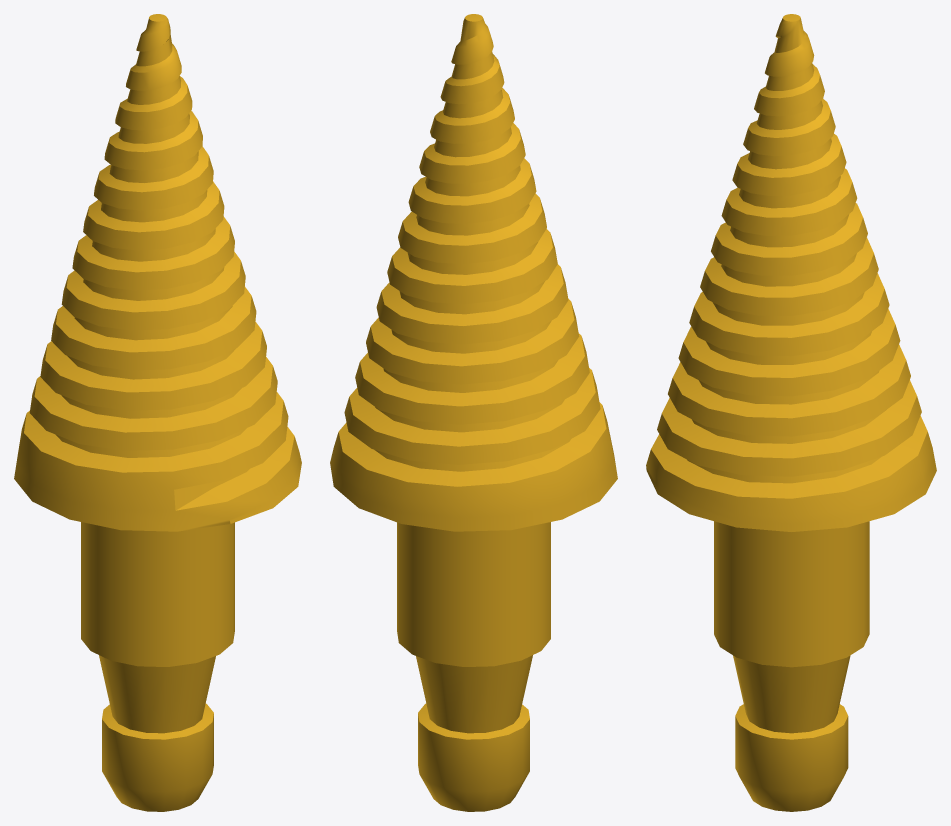
File: Drill_Parts.fbx
The picture shows the model from 3 angles, left to right: view 1: azimuth 30°, elevation 25°; view 2: azimuth 150°, elevation 25°; view 3: azimuth 270°, elevation 25°; orthographic projection.
Visible parts, largest first — view 1: 원형.001; view 2: 원형.001; view 3: 원형.001.
Part boxes in pixels (x1=…): 원형.001: x1=14, y1=14, x2=301, y2=811; 원형.001: x1=330, y1=14, x2=617, y2=811; 원형.001: x1=646, y1=14, x2=936, y2=811.
Size of the model in its own units: 111 by 327 by 111.
